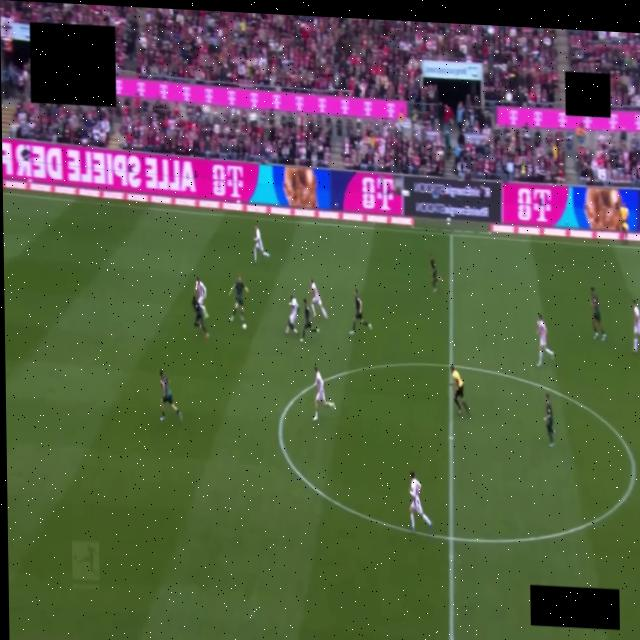ball: (242, 324, 246, 329)
player: (409, 471, 432, 531), (159, 369, 181, 421), (313, 367, 334, 421), (350, 289, 371, 335), (536, 315, 553, 367), (228, 276, 247, 322), (590, 286, 606, 340), (300, 299, 318, 342), (191, 297, 208, 338), (309, 280, 326, 319), (253, 226, 269, 262), (194, 277, 208, 318), (544, 395, 554, 446), (285, 295, 297, 334), (429, 254, 441, 292), (632, 300, 639, 353)
referee: (450, 365, 469, 415)
